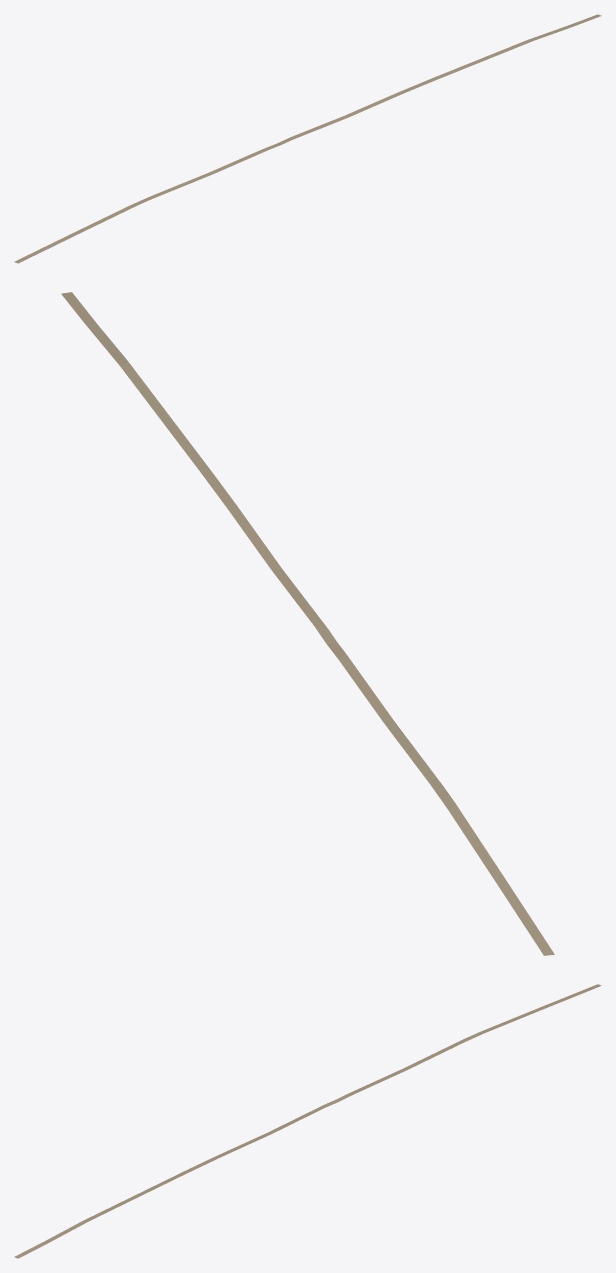
The model's file is farm_-36_-31_track.glb.
3 renders of one model, top to bottom at view 1: azimuth 90°, elevation 25°; view 2: azimuth 150°, elevation 25°; view 3: azimuth 270°, elevation 25°, orthographic. The views are drawn at different scales.
Parts seen in each view (by area): view 1: geometry_0; view 2: geometry_0; view 3: geometry_0.
Boxes of the visible parts, x1,y1,x2,y2 form: geometry_0: (14, 14, 601, 263); geometry_0: (61, 292, 554, 955); geometry_0: (14, 984, 601, 1258).
Bounding box in the file's own units: 356 × 11.11 × 337.
